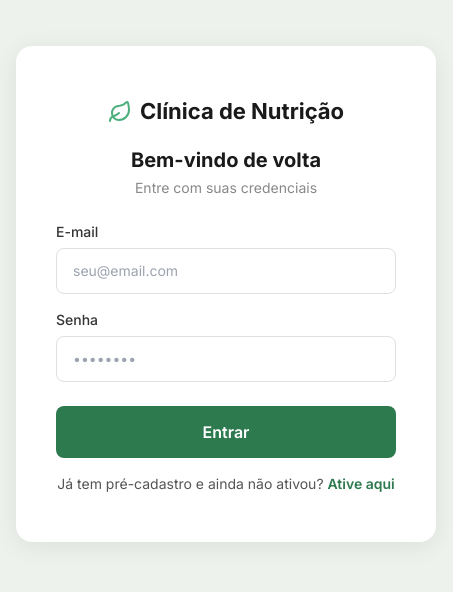
Test case: Login › mostra mensagem de erro quando o login falha
This screenshot has width=453, height=592.
# simulei o usuário digitando o email
Type "teste@email.com" into the field with placeholder "seu@email.com".
click(226, 271); type("teste@email.com")  # box [56,248,396,294]
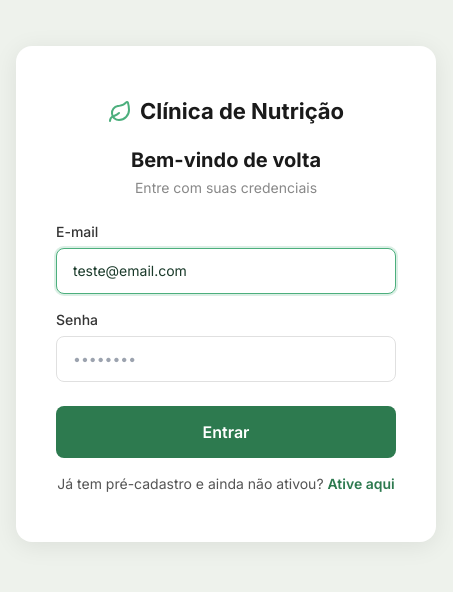
# simulei o usuário digitando a senha
Type "123456" into the password field with placeholder "••••••••".
click(226, 359); type("123456")  # box [56,336,396,382]
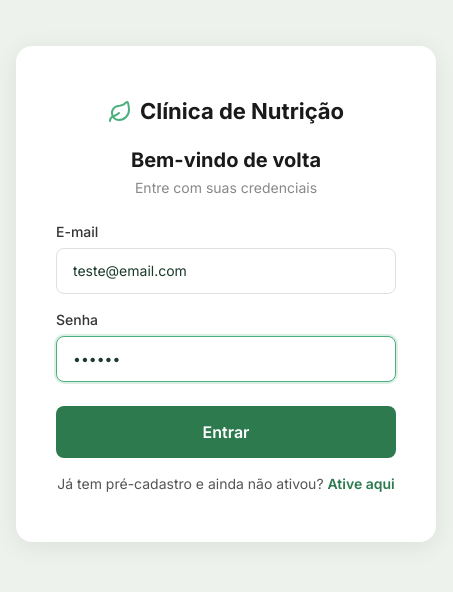
# simulei o usuário clicando no botão de entrar
Click the button "Entrar".
click(226, 432)  # box [56,406,396,458]
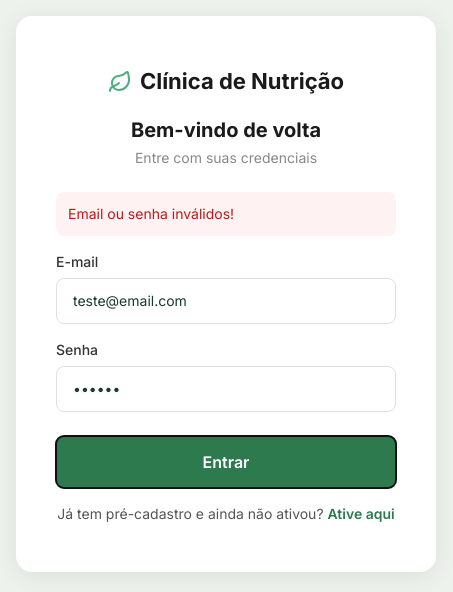
Expected: the text "Email ou senha inválidos!" is shown, [56,192,396,236]
